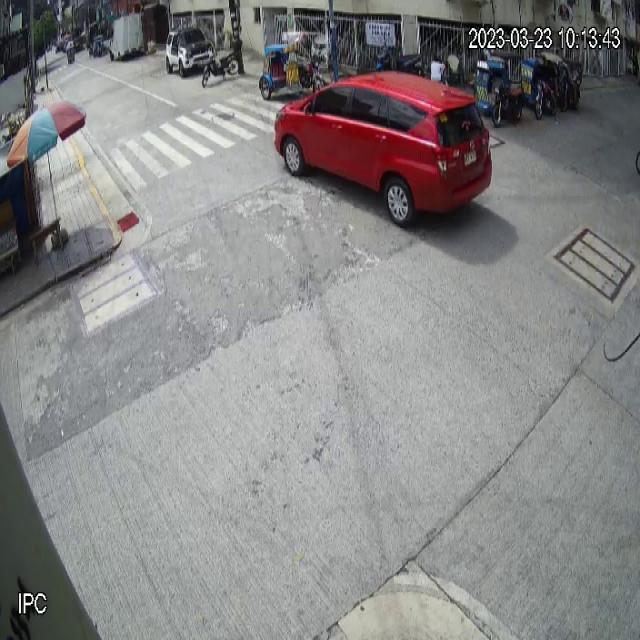Car: (274, 69, 494, 230)
Motorcycle: (202, 44, 240, 88)
Tricycle: (258, 29, 322, 101), (474, 49, 524, 129)
